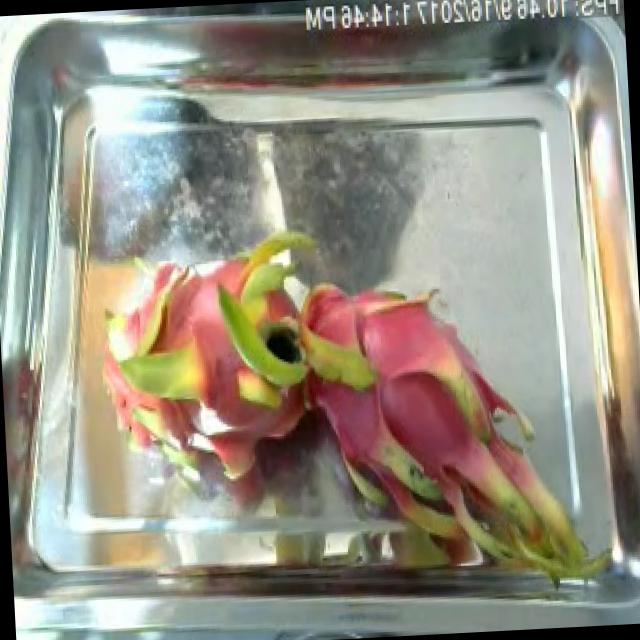Fruit: (131, 376, 217, 462)
